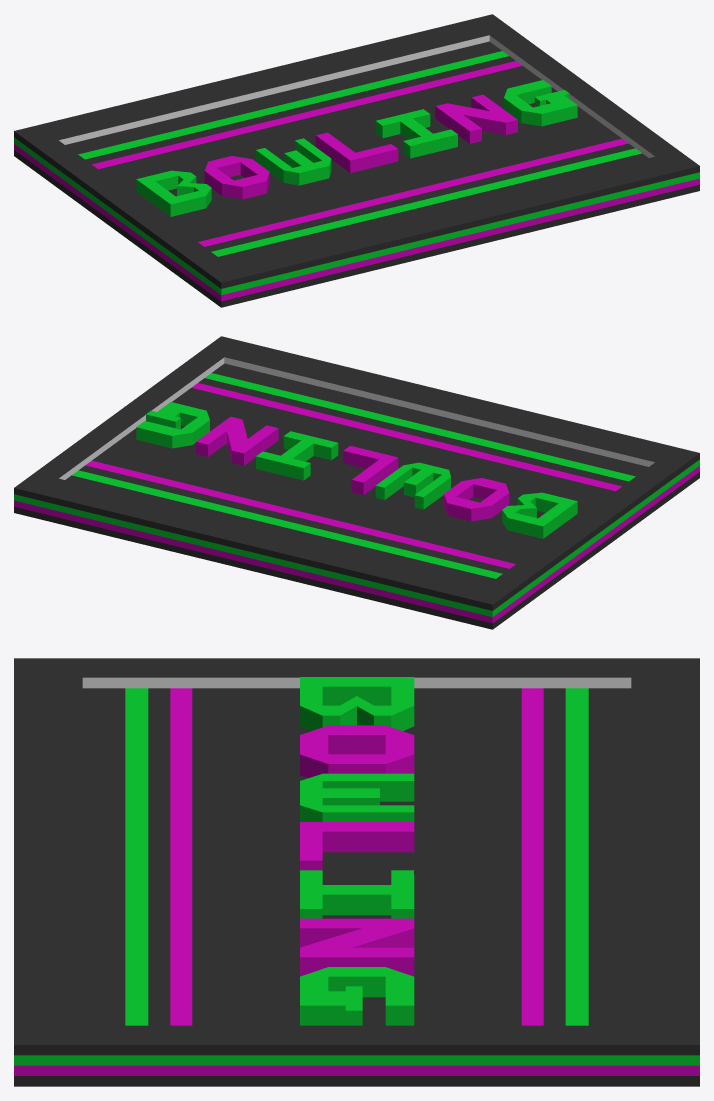
File: Bowling Sign.fbx
The picture shows the model from 3 angles, top to bottom: view 1: azimuth 30°, elevation 25°; view 2: azimuth 150°, elevation 25°; view 3: azimuth 270°, elevation 25°; orthographic projection. The views are drawn at different scales.
Parts seen in each view (by area): view 1: Bowling Sign; view 2: Bowling Sign; view 3: Bowling Sign.
Boxes of the visible parts, x1=… form: Bowling Sign: x1=14, y1=14, x2=699, y2=307; Bowling Sign: x1=14, y1=336, x2=699, y2=629; Bowling Sign: x1=14, y1=658, x2=699, y2=1086.
Size of the model in its own units: 4000 by 300 by 3000.
